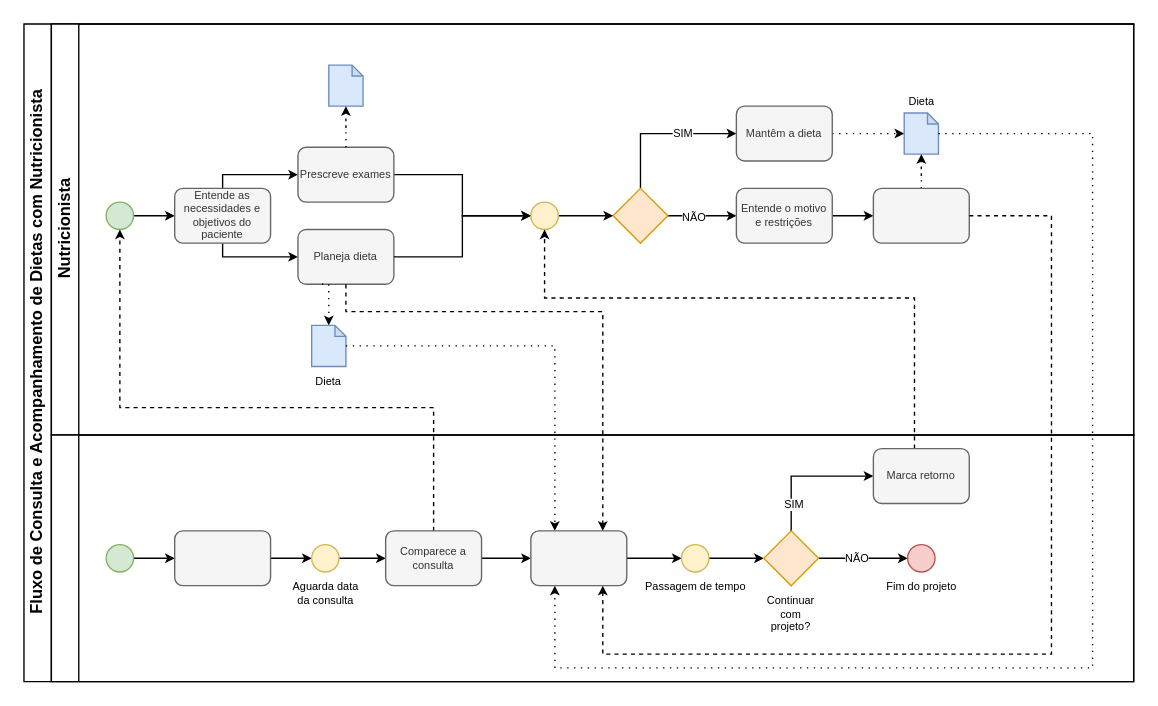
Image size: 1158x706. Some labels were removed from this diagram. The box of each missing label's shape, as (x1, y1, x2, y2) in pixels:
Aguarda retorno: (530, 201, 558, 229)
Atualiza dieta: (872, 187, 969, 243)
Marca consulta: (173, 530, 271, 586)
Paciente: (50, 434, 1134, 682)
Prescrição: (327, 64, 363, 106)
Recebe a dieta: (530, 530, 627, 586)
Seguiu a dieta?: (612, 187, 668, 243)
